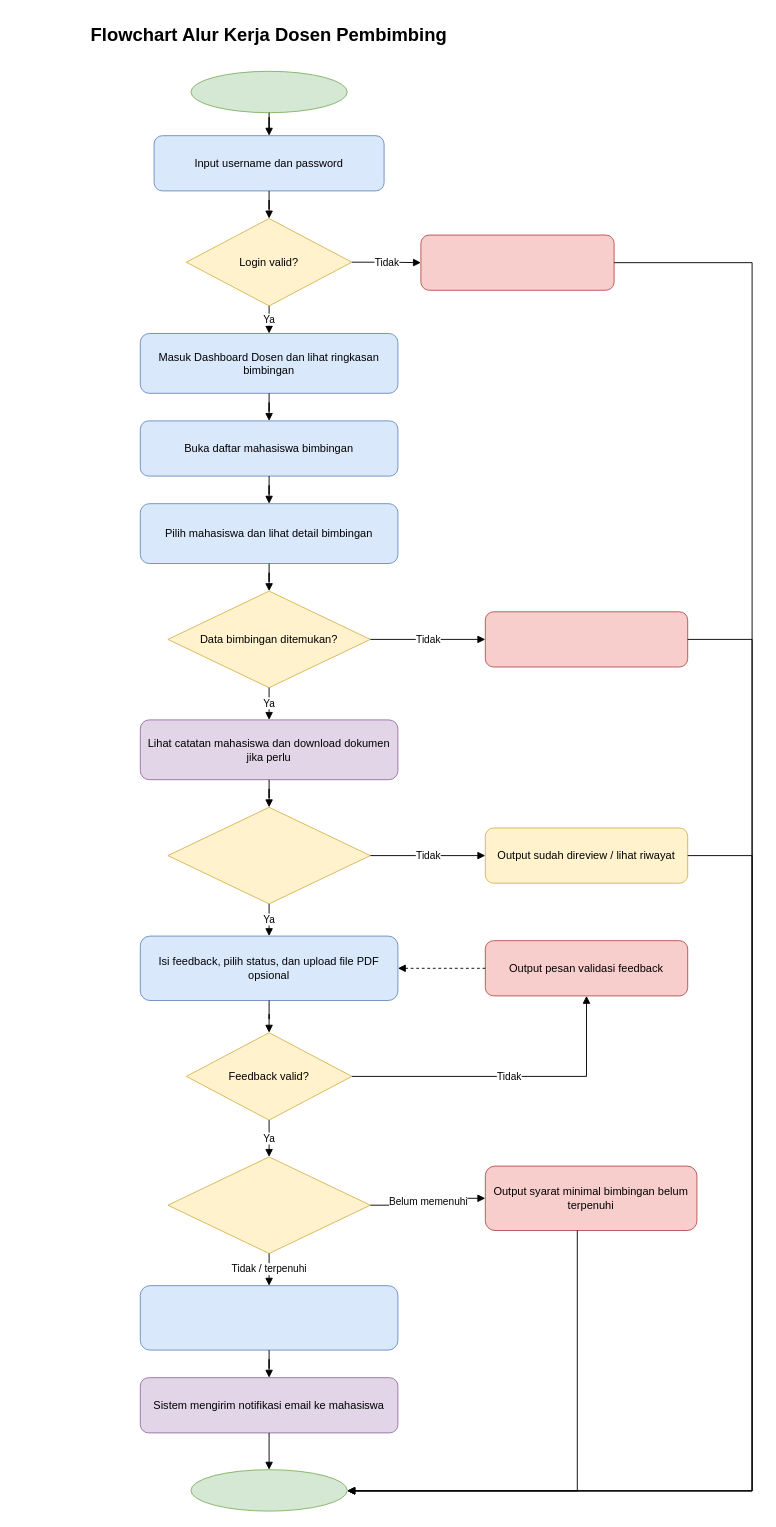
Image size: 776x1527. Some labels were removed from this diagram. Each missing label, with the box of its shape:
MULAI: (190, 70, 347, 113)
Output bimbingan tidak ditemukan: (484, 611, 688, 667)
Output pesan login gagal: (420, 234, 614, 290)
SELESAI: (190, 1469, 347, 1511)
Simpan feedback, ubah status, dan update progress jika Lanjut BAB: (139, 1285, 398, 1350)
Status ACC Sempro / Sidang?: (167, 1156, 370, 1254)
Status masih menunggu review?: (167, 806, 370, 904)
